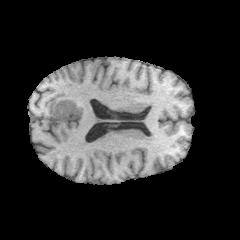glioma: (52, 95, 84, 121)
